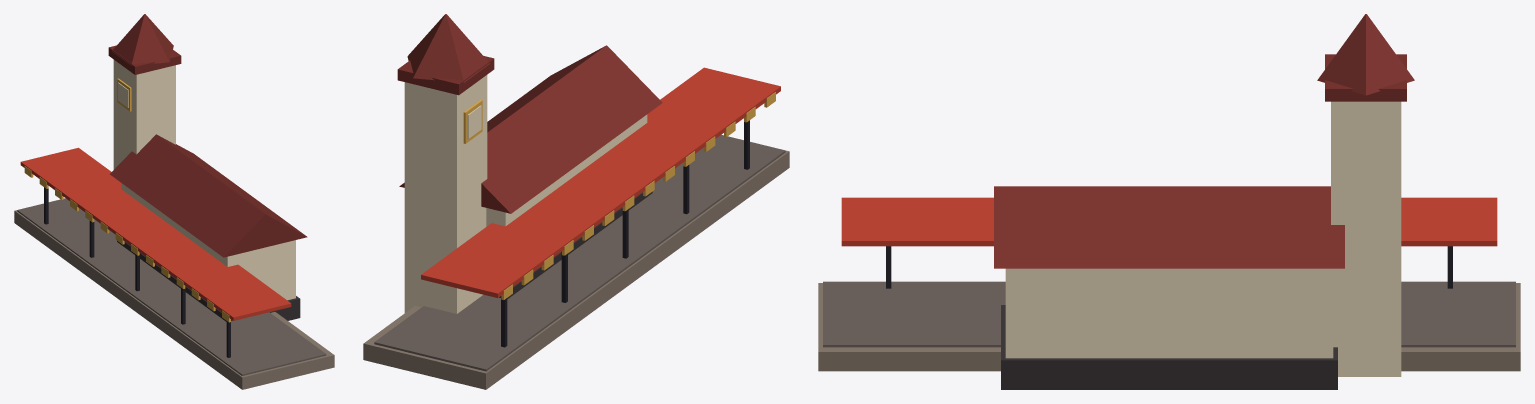
File: station.glb
3 views of the same model, side by side, from view 1: azimuth 30°, elevation 25°; view 2: azimuth 150°, elevation 25°; view 3: azimuth 270°, elevation 25° (orthographic). The views are drawn at different scales.
Visible parts, largest first — view 1: LOD0; view 2: LOD0; view 3: LOD0.
Boxes of the visible parts, x1,y1,x2,y2 form: LOD0: (14, 14, 334, 389); LOD0: (363, 14, 789, 389); LOD0: (818, 14, 1520, 389).
Size of what is drawn, in the model's own units: 9.43 by 16.4 by 30.
